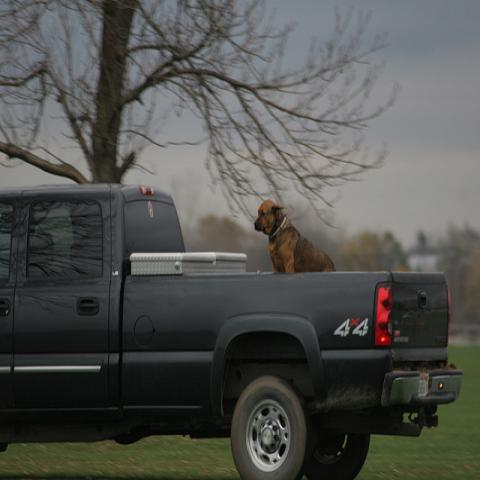truck: (3, 186, 462, 475)
